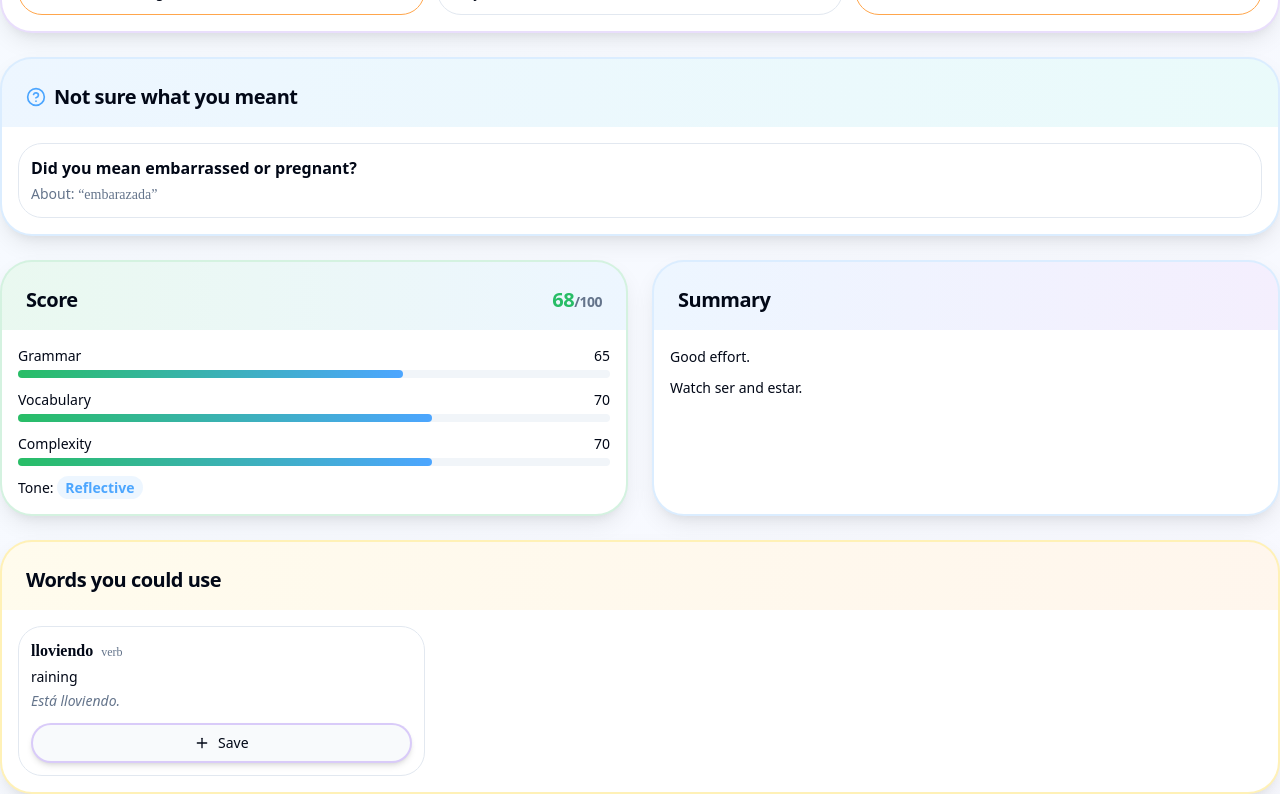
Test: suggested words › saves a suggested word to the notebook from the result
(page scrolled)
What coordinates should you click on to do the following:
click the button "Save"
I would click on:
 (221, 743)
Its box is [31,723,412,763].
(page scrolled)
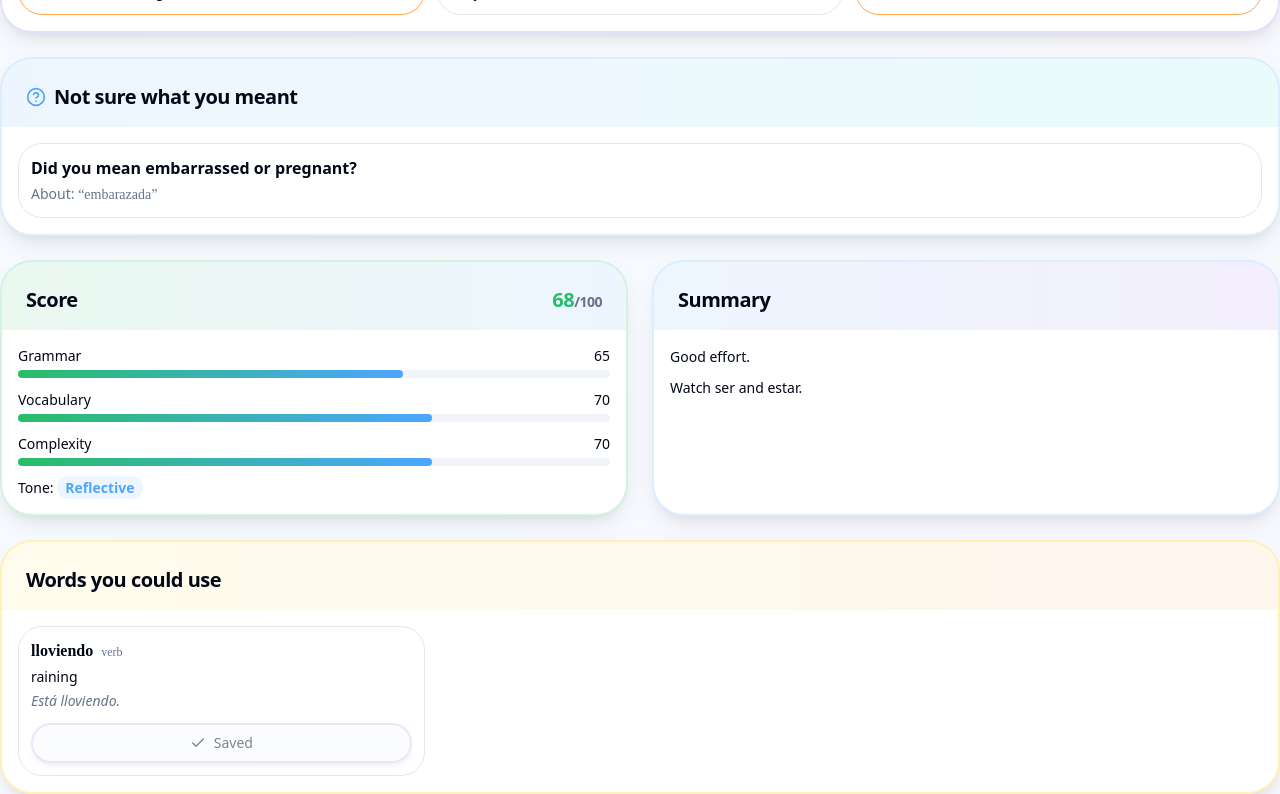
Check: the button "Saved" is disabled, box [31,723,412,763]
